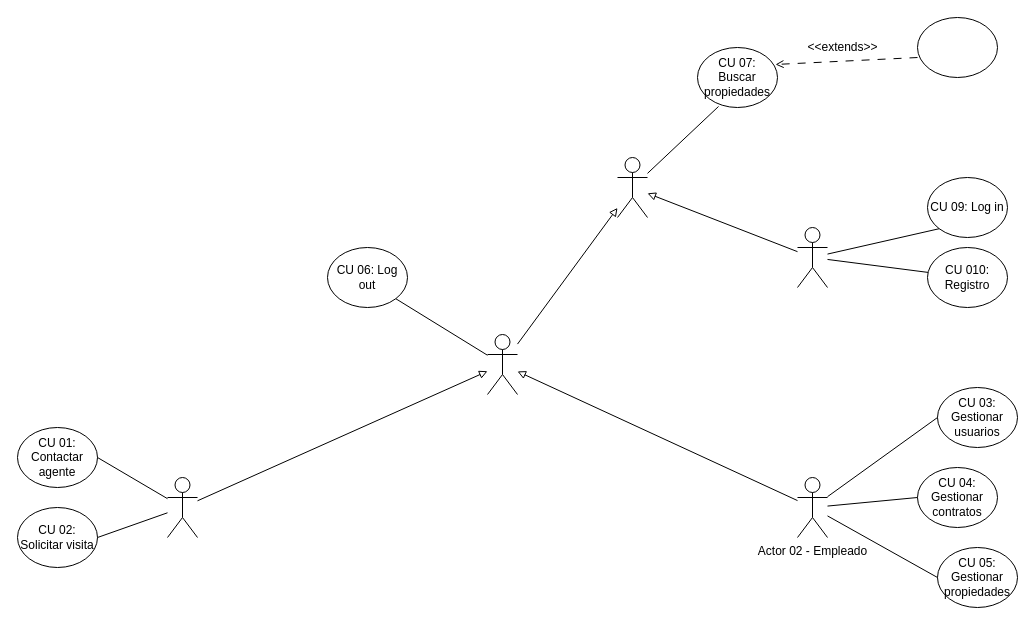
Image size: 1035x625. Some labels were removed from this diagram. Each missing label, with the box of its shape:
Actor 01 - Cliente: (166, 476, 198, 538)
Actor 03 - Usuario logueado: (486, 334, 518, 394)
Actor 04 - Usuario del software: (616, 156, 648, 218)
Actor 05 - Usuario no logueado: (796, 226, 828, 288)
CU 08: Ver detalles de propiedad: (916, 16, 998, 78)
